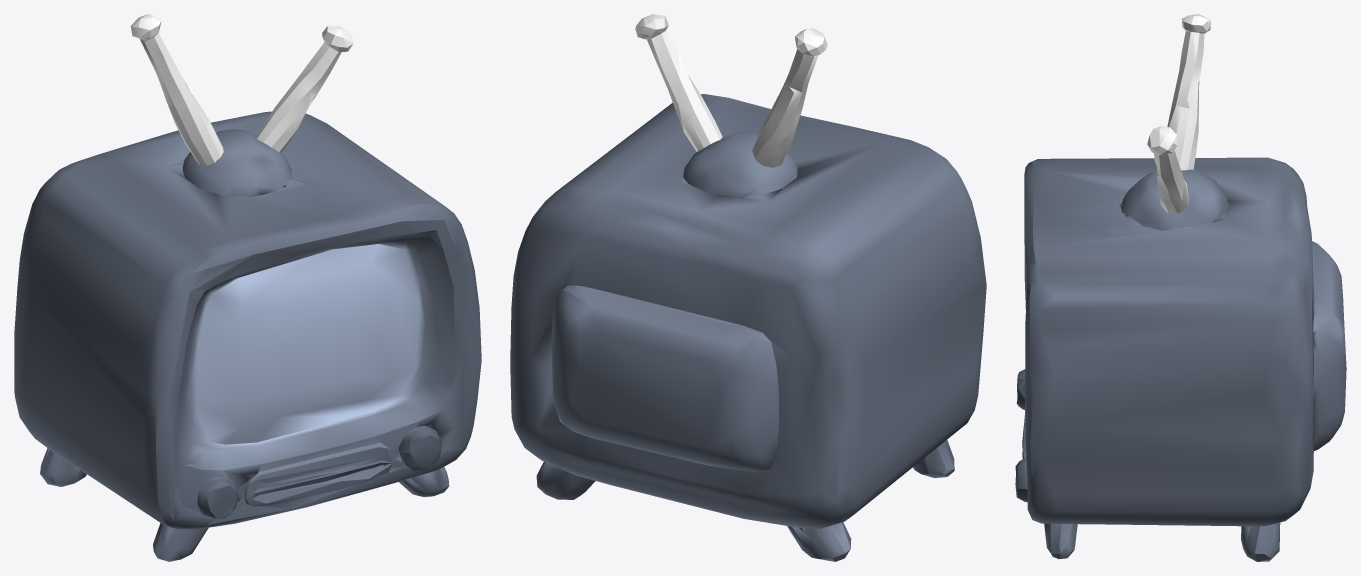
The model's file is Television01.fbx.
3 renders of one model, left to right at view 1: azimuth 30°, elevation 25°; view 2: azimuth 150°, elevation 25°; view 3: azimuth 270°, elevation 25°, orthographic. The views are drawn at different scales.
Visible parts, largest first — view 1: TelevisionBody01, TelevisionAntenna01, TelevisionAntenna02; view 2: TelevisionBody01, TelevisionAntenna01, TelevisionAntenna02; view 3: TelevisionBody01, TelevisionAntenna01, TelevisionAntenna02.
Part boxes in pixels (left/top/right/bottom): TelevisionBody01: left=14, top=111, right=481, bottom=561; TelevisionAntenna01: left=130, top=14, right=223, bottom=165; TelevisionAntenna02: left=256, top=26, right=353, bottom=152; TelevisionBody01: left=510, top=94, right=986, bottom=561; TelevisionAntenna01: left=752, top=28, right=827, bottom=167; TelevisionAntenna02: left=635, top=14, right=722, bottom=151; TelevisionBody01: left=1015, top=157, right=1346, bottom=561; TelevisionAntenna01: left=1167, top=14, right=1210, bottom=170; TelevisionAntenna02: left=1147, top=126, right=1188, bottom=213.
Bounding box in the file's own units: 75.57 × 103 × 68.83.
